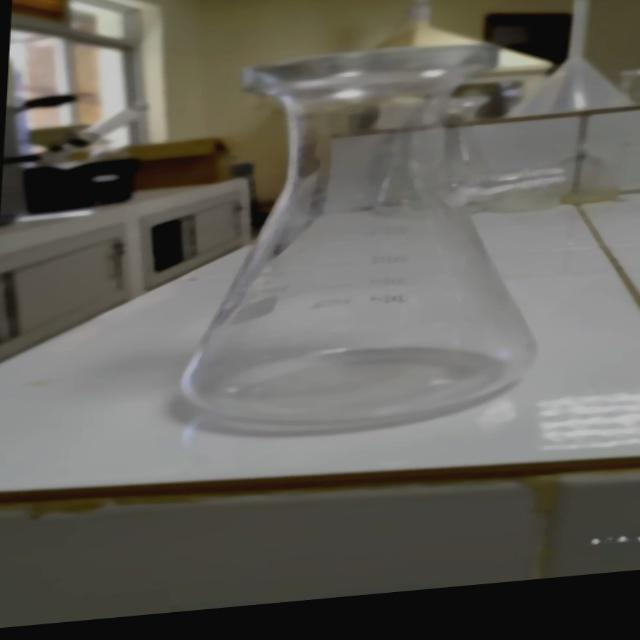Filtration Flask: (113, 27, 563, 449)
